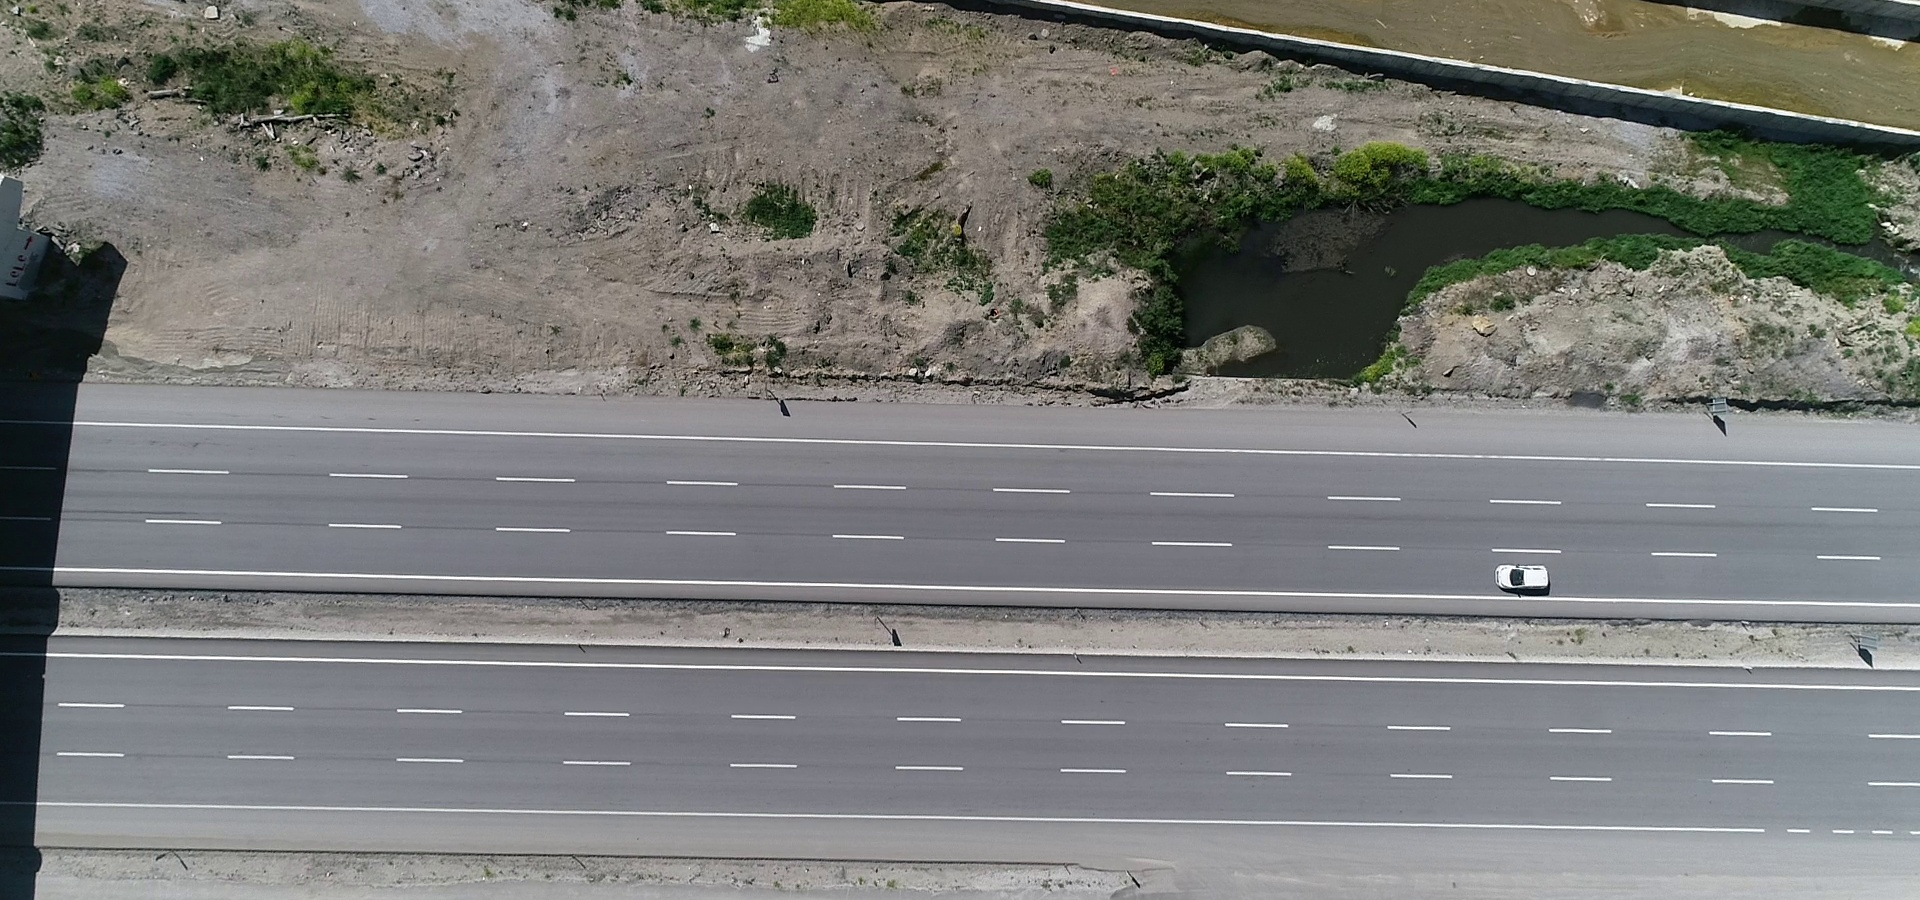arac: (1489, 560, 1562, 598)
